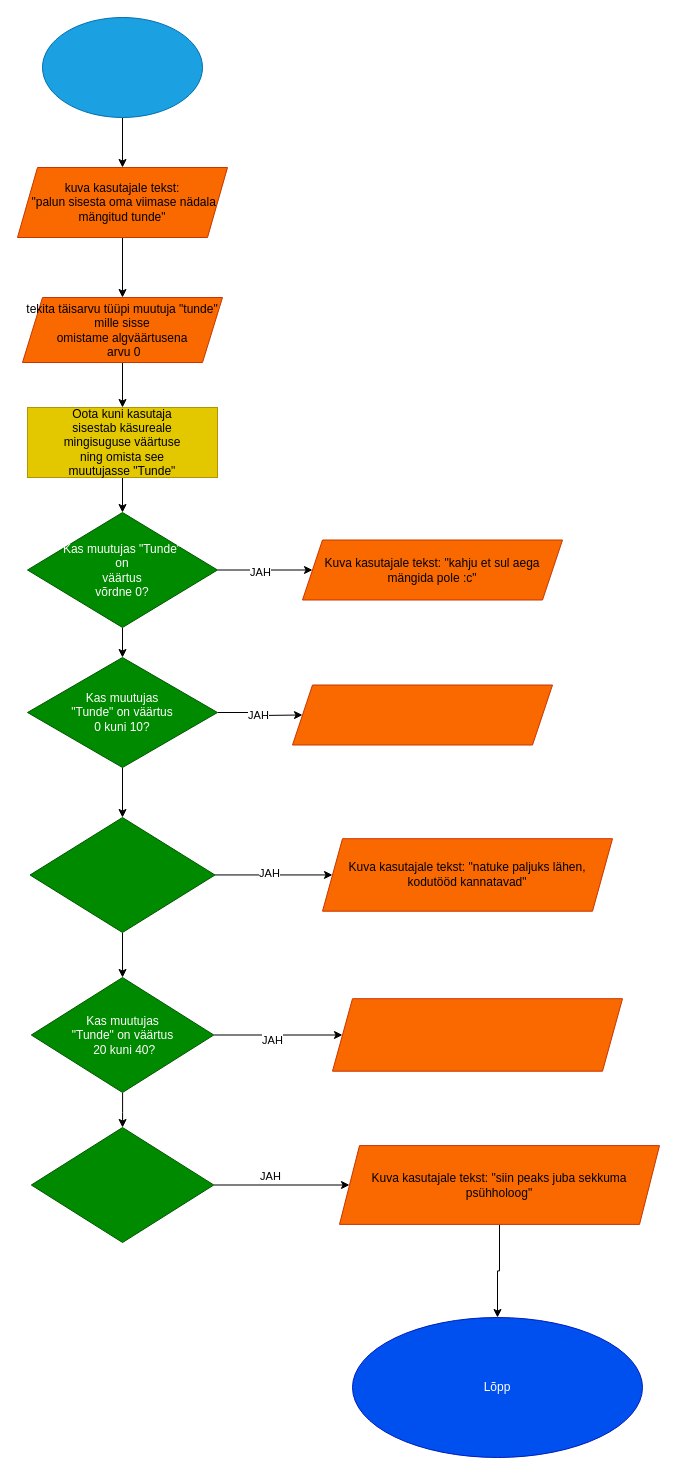
Some shapes in this 677 by 1475 pixel diagram are drawn without their labels. The shapes that lost their labels are listed below. From the top down, each one's box as (x1, y1, x2, y2) in pixels, then its label:
(42, 16, 202, 118): Algus
(292, 684, 552, 745): Kuva kasutajale tekst: "mõõdukas mängija, tubli"
(29, 816, 215, 932): Kas muutujas "Tunde" on väärtus 10 kuni 20?
(332, 998, 622, 1071): Kuva kasutajale tekst: "liiga palju mängid, kas sa kooli üldse nii jõuad"
(30, 1126, 214, 1242): Kas muutujas "Tunde" on väärtus rohkem kui 40?
